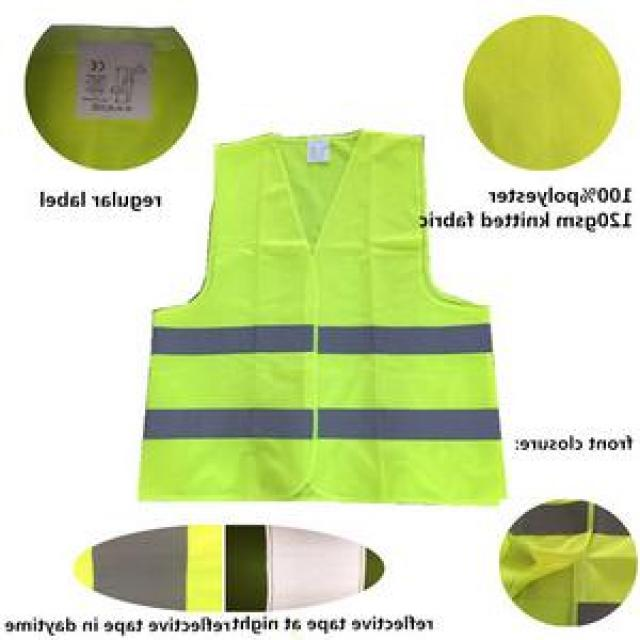Reflective-Jacket: (96, 118, 538, 532)
